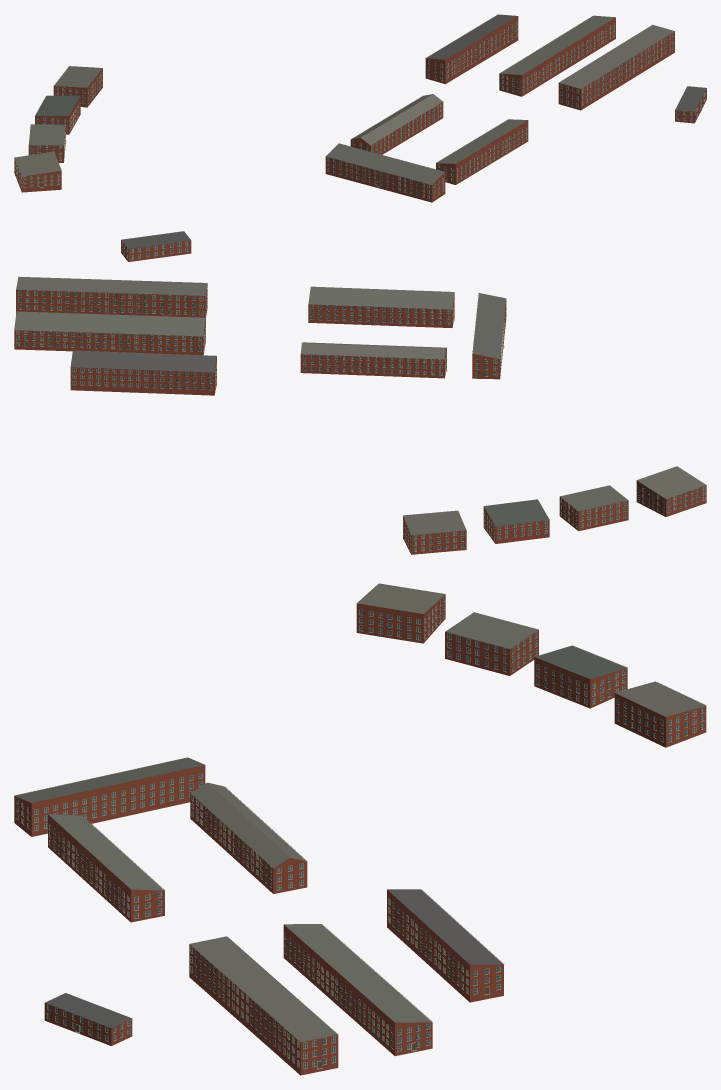
3 views of the same model, one above another, from view 1: azimuth 30°, elevation 25°; view 2: azimuth 150°, elevation 25°; view 3: azimuth 270°, elevation 25° (orthographic). The views are drawn at different scales.
Parts seen in each view (by area): view 1: -4_2_598391665_2; view 2: -4_2_598391665_2; view 3: -4_2_598391665_2.
Boxes of the visible parts, box(x1,y1,x2,y2) form: -4_2_598391665_2: box(14, 14, 706, 202); -4_2_598391665_2: box(14, 231, 706, 554); -4_2_598391665_2: box(14, 583, 706, 1075).
Size of the model in its own units: 402 by 19.71 by 248.
